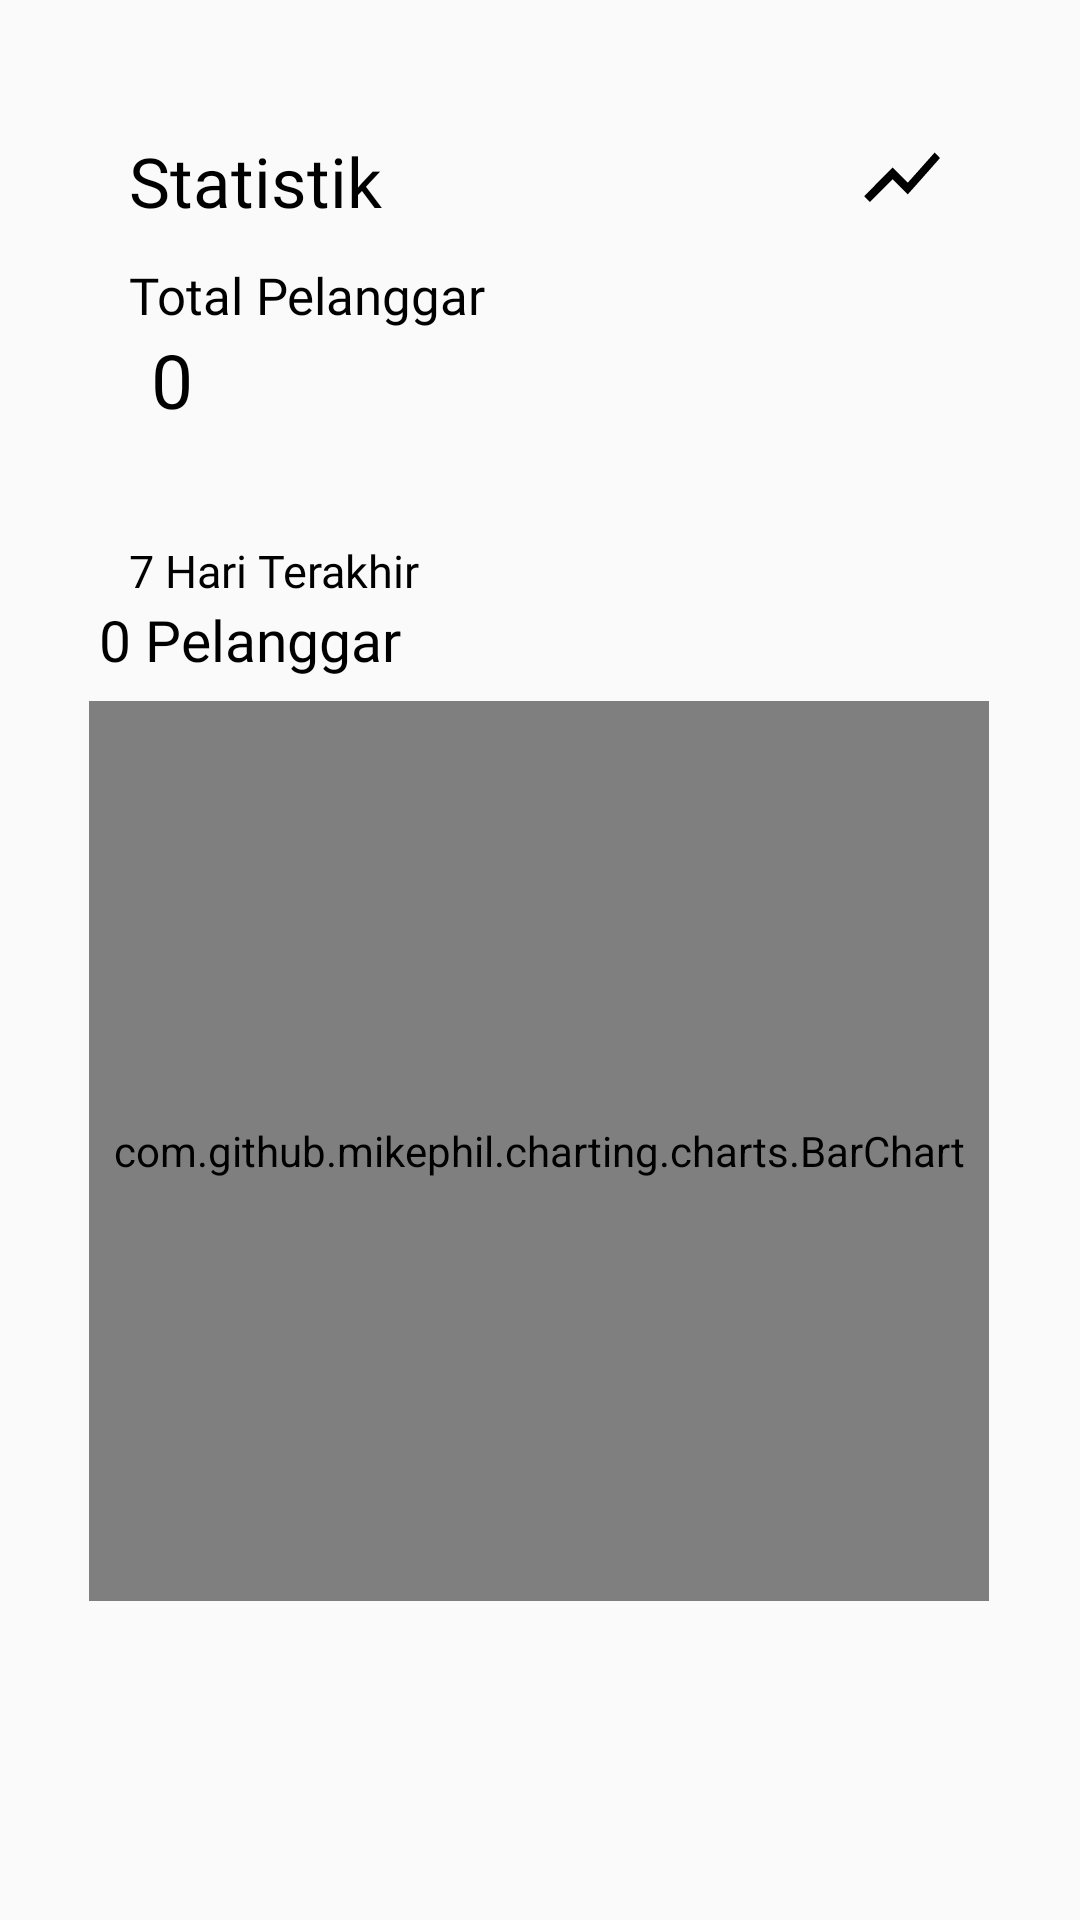

Screen size 1080 x 1920. Icon name, then its box in pixels as (x1, y1, x2, y2):
stats: (864, 152, 940, 202)
